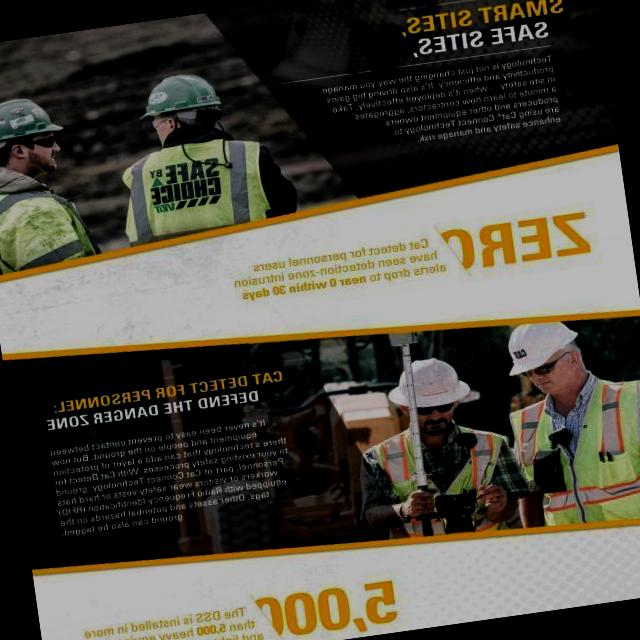vest: (363, 422, 518, 555), (119, 133, 282, 240), (543, 377, 640, 535), (0, 169, 94, 268)
